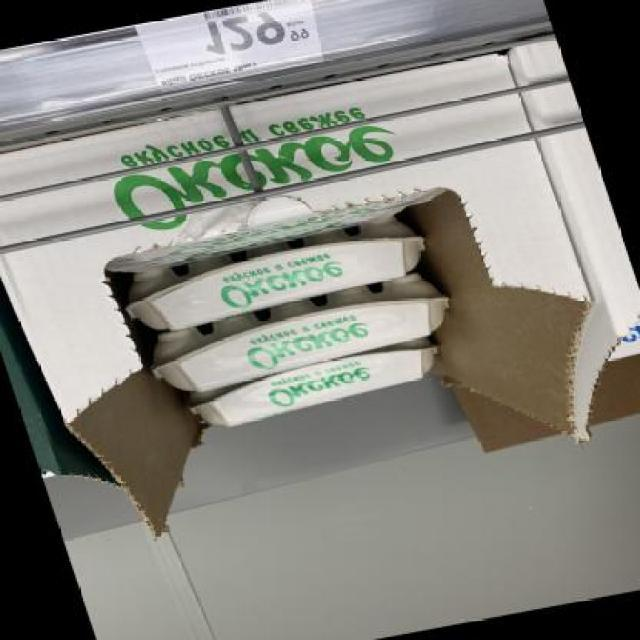egg: (137, 277, 463, 398), (118, 216, 438, 334), (170, 336, 461, 436), (590, 301, 640, 371)
